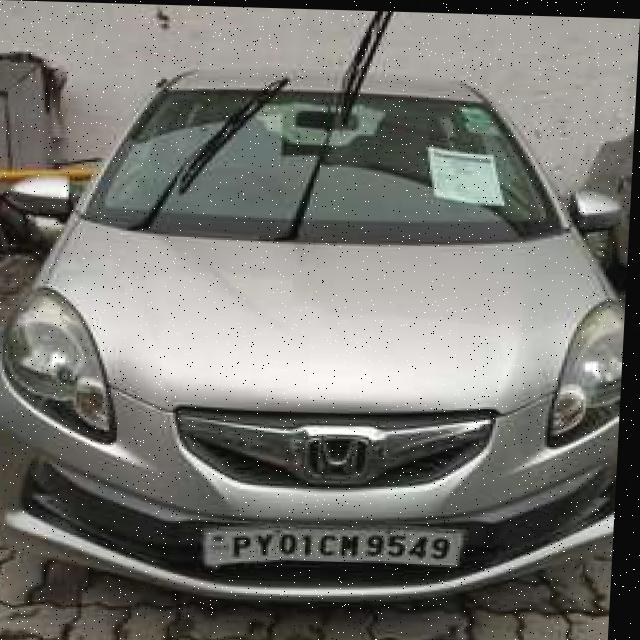plate: (210, 522, 468, 568)
